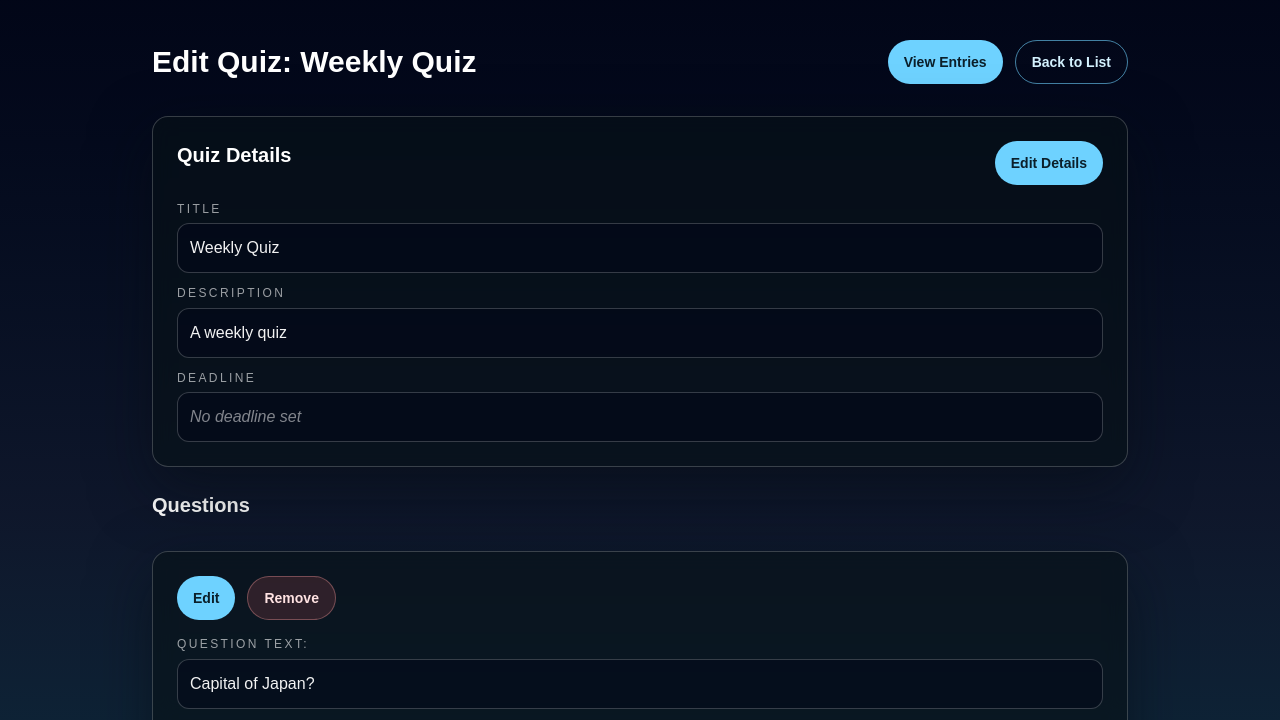
Test case: EditQuizPage › shows quiz details edit form when Edit Details is clicked
The image size is (1280, 720).
Click the button "Edit Details" at {"x": 1049, "y": 163}, box x1=995 y1=141 x2=1103 y2=185
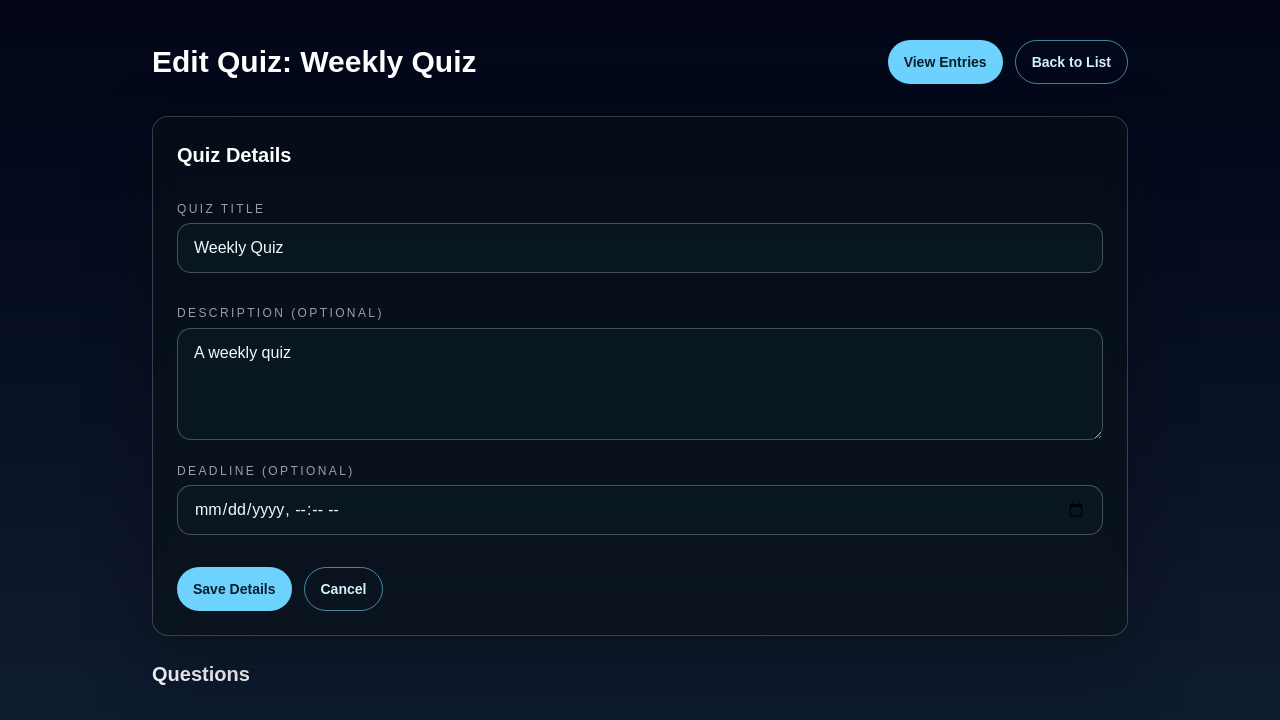
Now the field labelled "Quiz Title" is shown, box x1=177 y1=223 x2=1103 y2=273
Now the text box labelled "Description (optional)" is shown, box x1=177 y1=328 x2=1103 y2=440
Now the field labelled "Deadline (optional)" is shown, box x1=177 y1=485 x2=1103 y2=535
